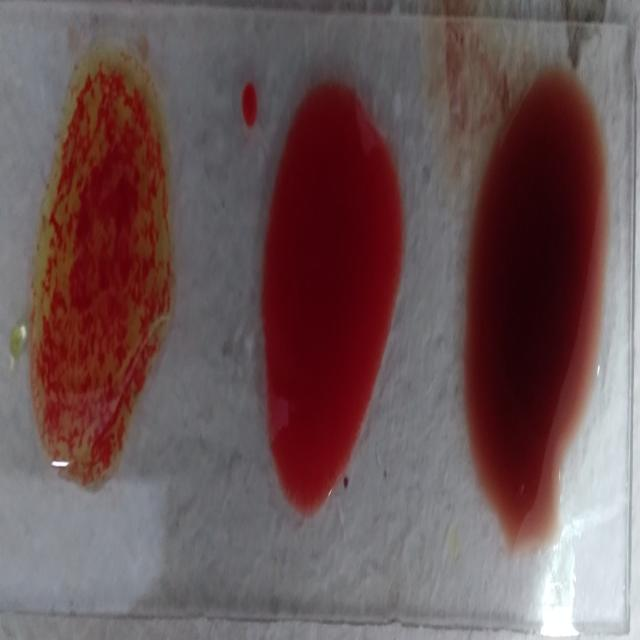B: (33, 37, 171, 491)
